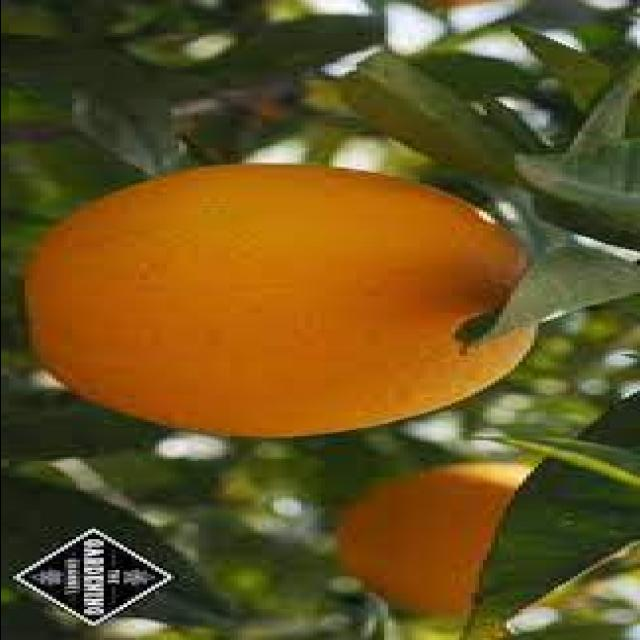orange: (44, 162, 528, 442)
